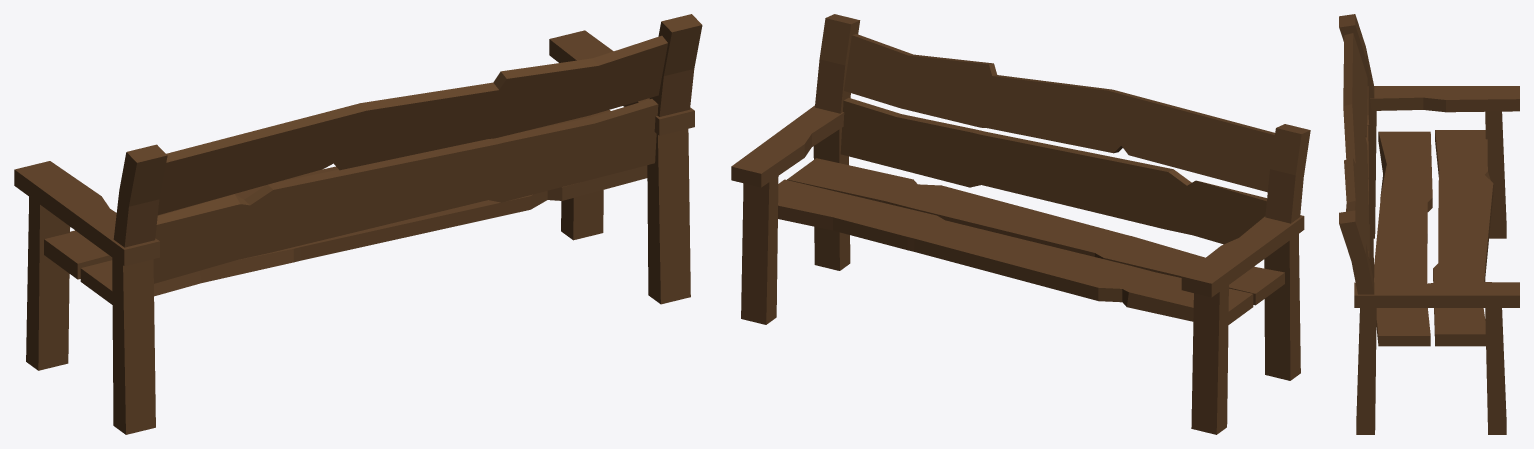
The model's file is bench.glb.
3 renders of one model, left to right at view 1: azimuth 30°, elevation 25°; view 2: azimuth 150°, elevation 25°; view 3: azimuth 270°, elevation 25°, orthographic. The views are drawn at different scales.
Parts seen in each view (by area): view 1: Bench_1; view 2: Bench_1; view 3: Bench_1.
Part boxes in pixels (x1=…): Bench_1: x1=14, y1=14, x2=702, y2=434; Bench_1: x1=731, y1=14, x2=1310, y2=434; Bench_1: x1=1339, y1=14, x2=1519, y2=434.
Size of the model in its own units: 0.665 by 0.3158 by 0.2424.
